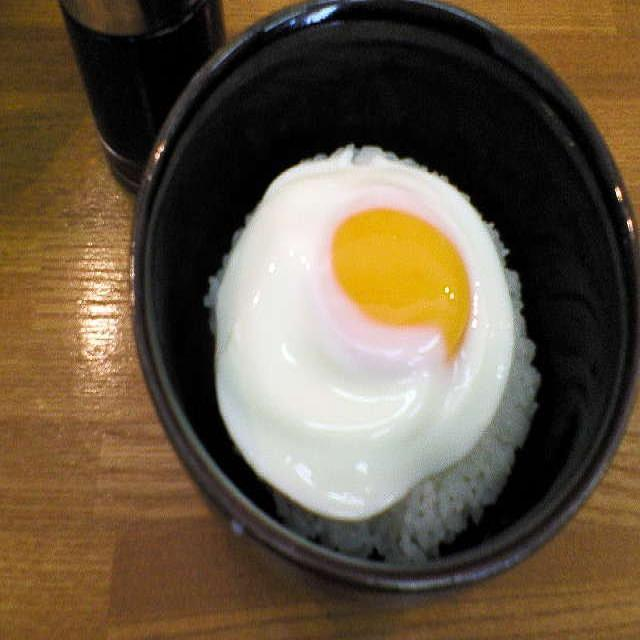Egg: (211, 138, 533, 520)
